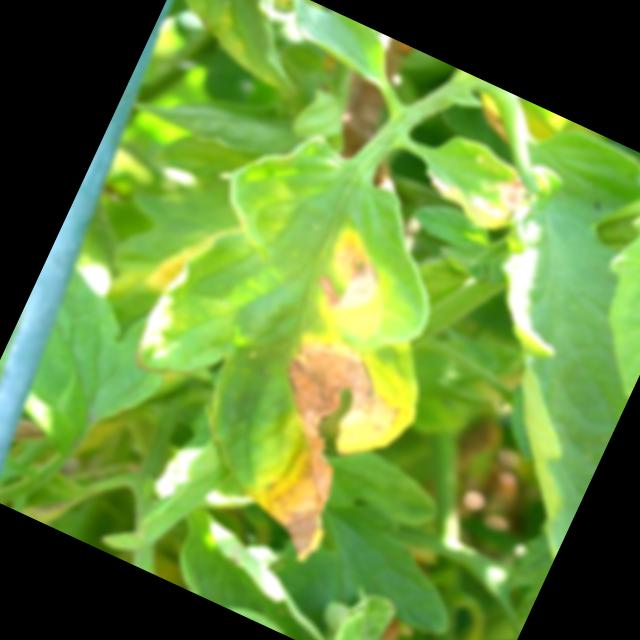Early_blight: (206, 315, 431, 578), (413, 138, 531, 240), (301, 218, 399, 325)
